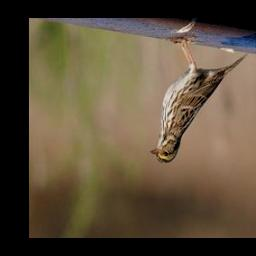Sparrow: (151, 37, 249, 164)
